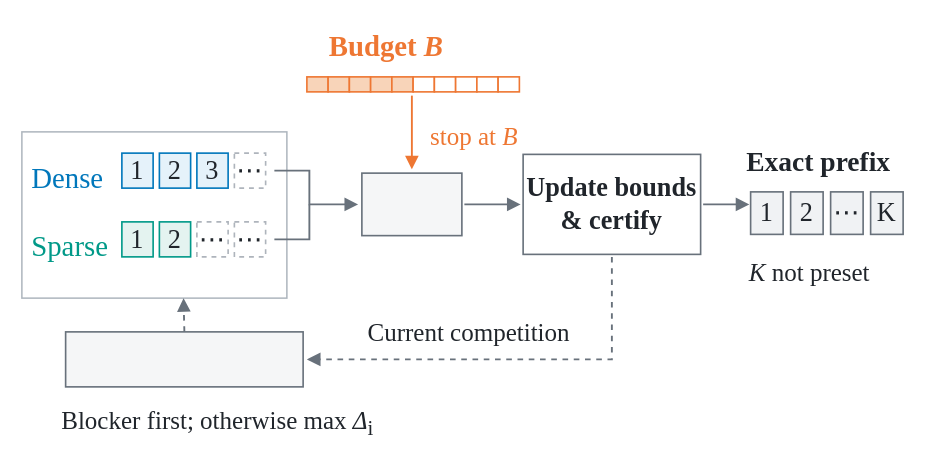
The diagram is 941 pixels wide and 463 high, and some of its shapes have lost their labels. Here are the shapes that lost their labels. From the top down, the centre of each, then its label:
At [411,204]: "Read".
At [183,358]: "Choose a channel".
